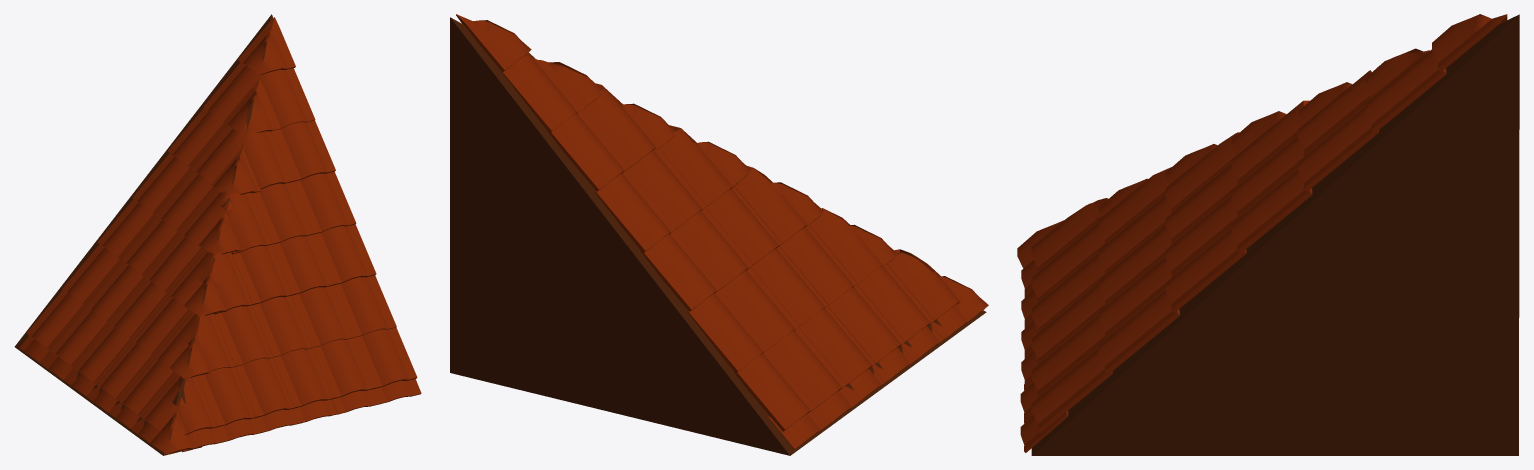
The model's file is SM_RoofTile2.fbx.
3 renders of one model, left to right at view 1: azimuth 30°, elevation 25°; view 2: azimuth 150°, elevation 25°; view 3: azimuth 270°, elevation 25°, orthographic. The views are drawn at different scales.
Visible parts, largest first — view 1: CornerTile; view 2: CornerTile; view 3: CornerTile.
Boxes of the visible parts, x1,y1,x2,y2 form: CornerTile: (14,14,421,455); CornerTile: (450,14,988,455); CornerTile: (1017,14,1519,455).
Bounding box in the file's own units: 39.77 × 39.37 × 40.61.
